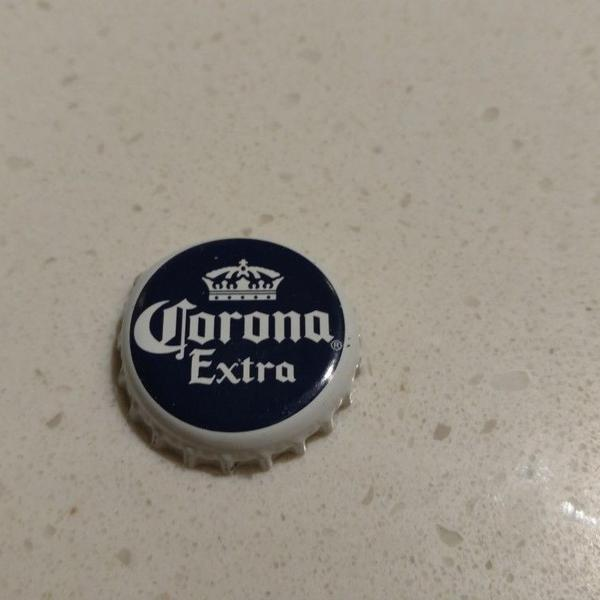corona: (109, 227, 358, 480)
